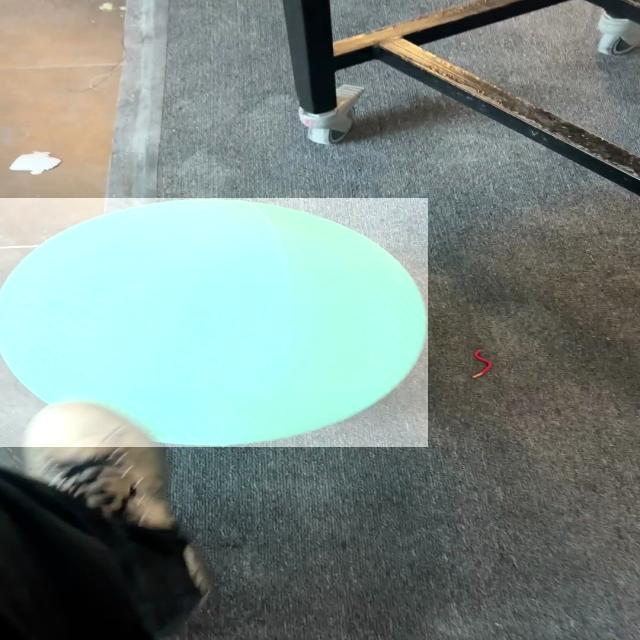Algae: (1, 198, 428, 447)
